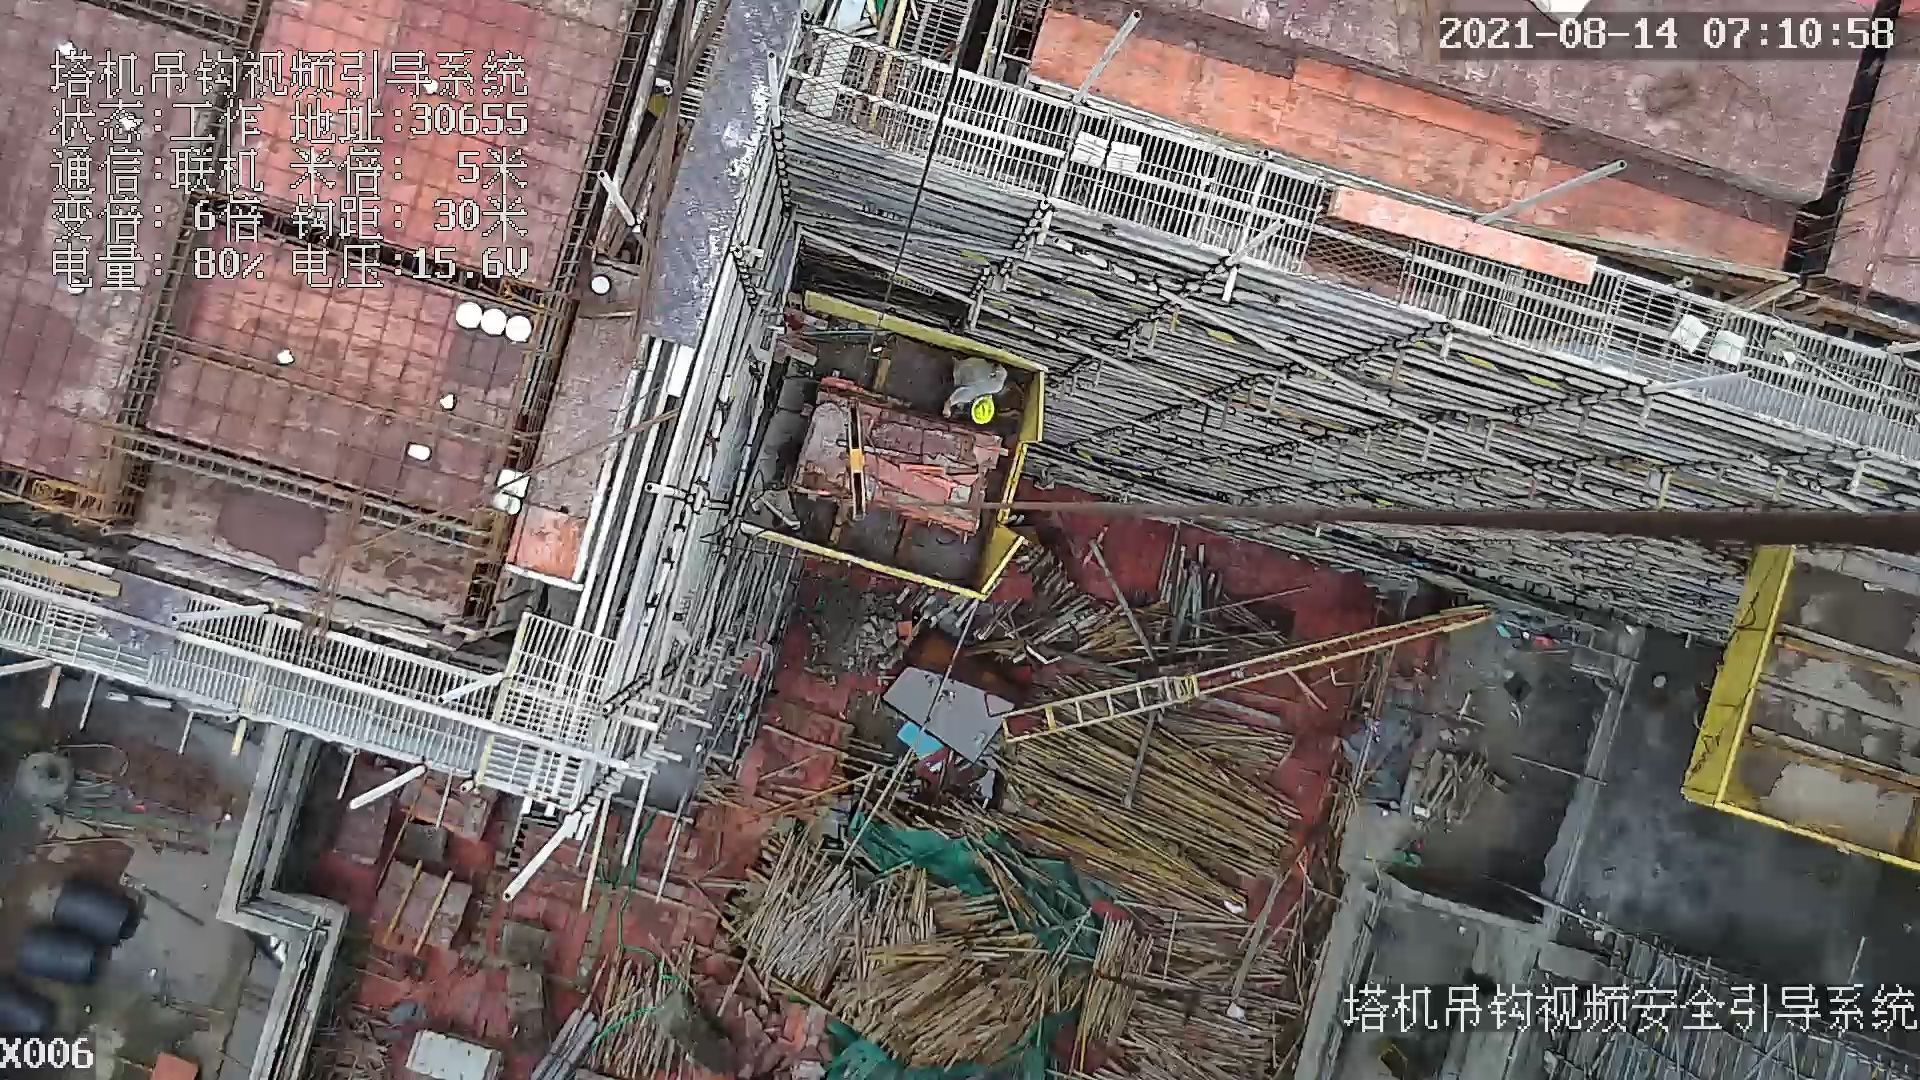helmet: (969, 395, 995, 427)
hook: (836, 394, 876, 524)
person: (936, 353, 1013, 419)
